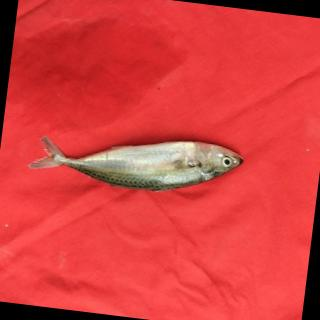Ikan: (22, 113, 252, 219)
